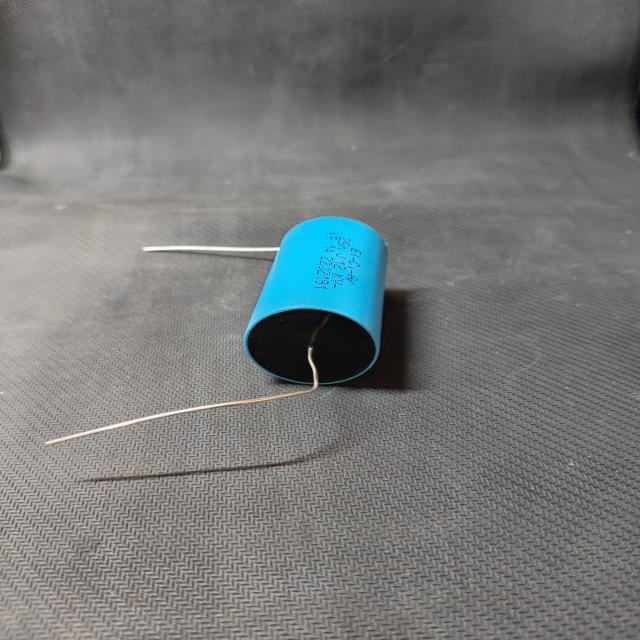capacitor: (39, 206, 398, 461)
